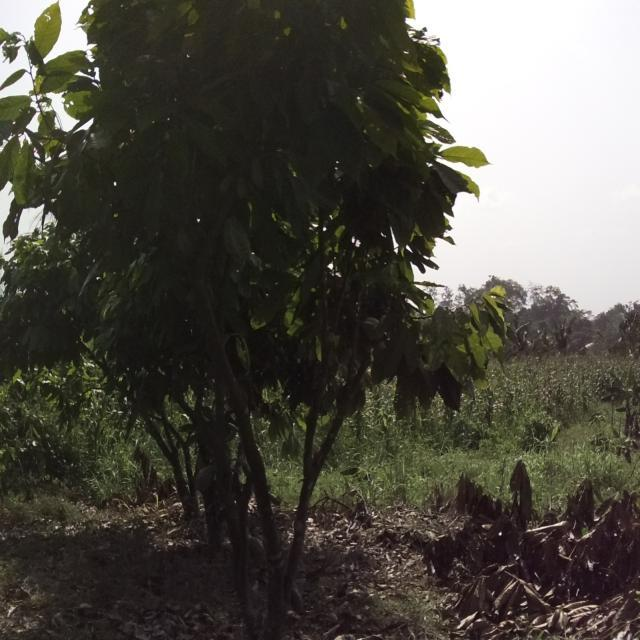Mature_Unripe: (219, 215, 257, 267)
